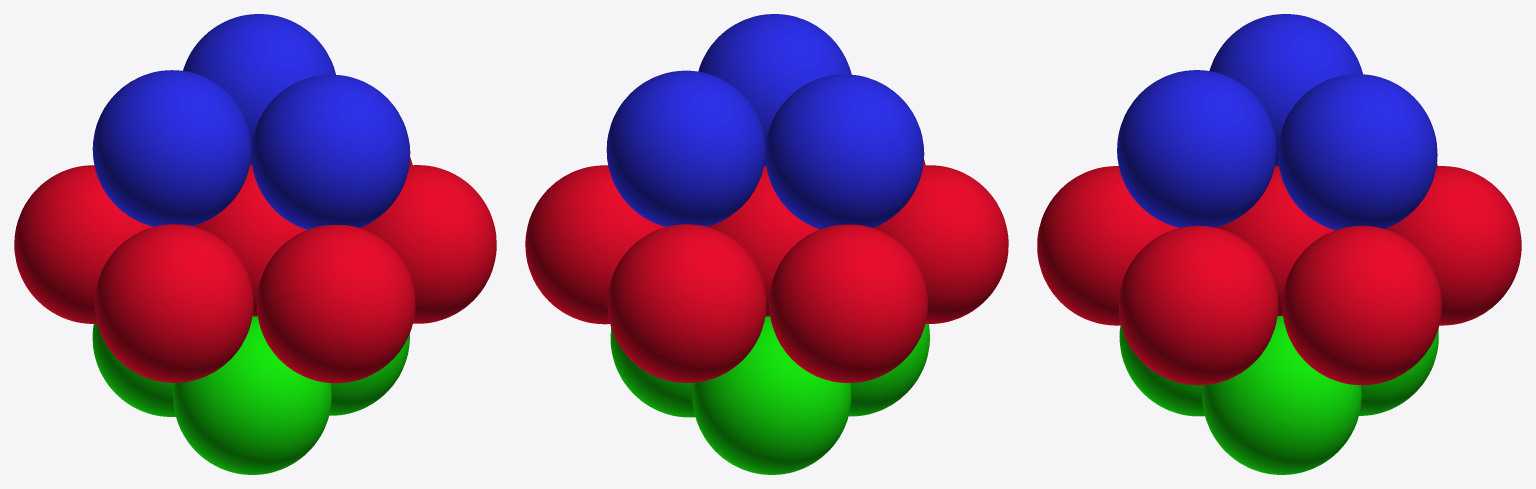
Rendered from 3-D[hexagonal(ABCABC)].glb.
3 renders of one model, left to right at view 1: azimuth 30°, elevation 25°; view 2: azimuth 150°, elevation 25°; view 3: azimuth 270°, elevation 25°, orthographic.
Visible parts, largest first — view 1: Sphere.008, Sphere.007, Sphere.010, Sphere.012, Sphere.002, Sphere.006, Sphere.009, Sphere.011, Sphere.003, Sphere, Sphere.001; view 2: Sphere.004, Sphere.009, Sphere.011, Sphere.010, Sphere, Sphere.005, Sphere.008, Sphere.012, Sphere.003, Sphere.002, Sphere.001; view 3: Sphere.005, Sphere.006, Sphere.012, Sphere.011, Sphere.001, Sphere.007, Sphere.004, Sphere.010, Sphere.003, Sphere.002, Sphere.
Part boxes in pixels (x1,y1,x2,y2): Sphere.008: (94,224,253,382); Sphere.007: (256,225,415,383); Sphere.010: (92,70,251,226); Sphere.012: (251,74,410,229); Sphere.002: (173,316,331,474); Sphere.006: (360,165,496,323); Sphere.009: (14,165,153,323); Sphere.011: (183,14,335,164); Sphere.003: (193,164,306,316); Sphere: (92,324,175,416); Sphere.001: (329,333,409,415); Sphere.004: (607,224,766,382); Sphere.009: (769,224,927,382); Sphere.011: (606,70,765,226); Sphere.010: (765,74,924,229); Sphere: (692,316,851,474); Sphere.005: (525,165,664,324); Sphere.008: (873,165,1008,323); Sphere.012: (698,14,851,165); Sphere.003: (707,166,819,316); Sphere.002: (848,324,929,416); Sphere.001: (610,328,695,417); Sphere.005: (1282,225,1441,385); Sphere.006: (1118,225,1278,385); Sphere.012: (1117,70,1276,227); Sphere.011: (1278,74,1437,230); Sphere.001: (1202,316,1361,474); Sphere.007: (1037,166,1179,325); Sphere.004: (1385,166,1521,325); Sphere.010: (1209,14,1362,166); Sphere.003: (1215,166,1334,315); Sphere.002: (1119,325,1204,416); Sphere: (1359,328,1438,415).
Size of the model in its own units: 5.53 by 5.11 by 6.07.
